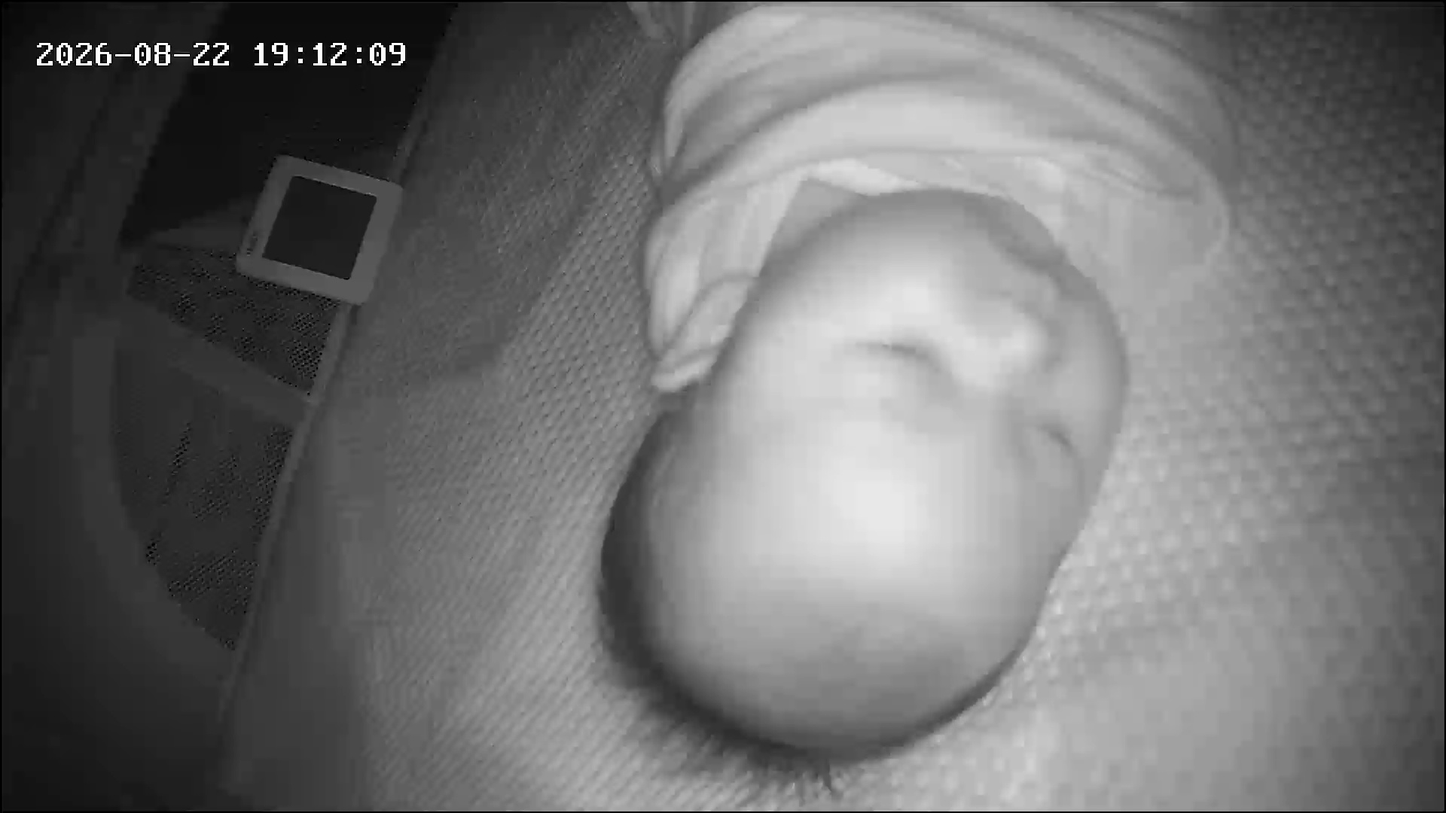baby: (561, 3, 1257, 801)
baby_face: (600, 183, 1136, 774)
